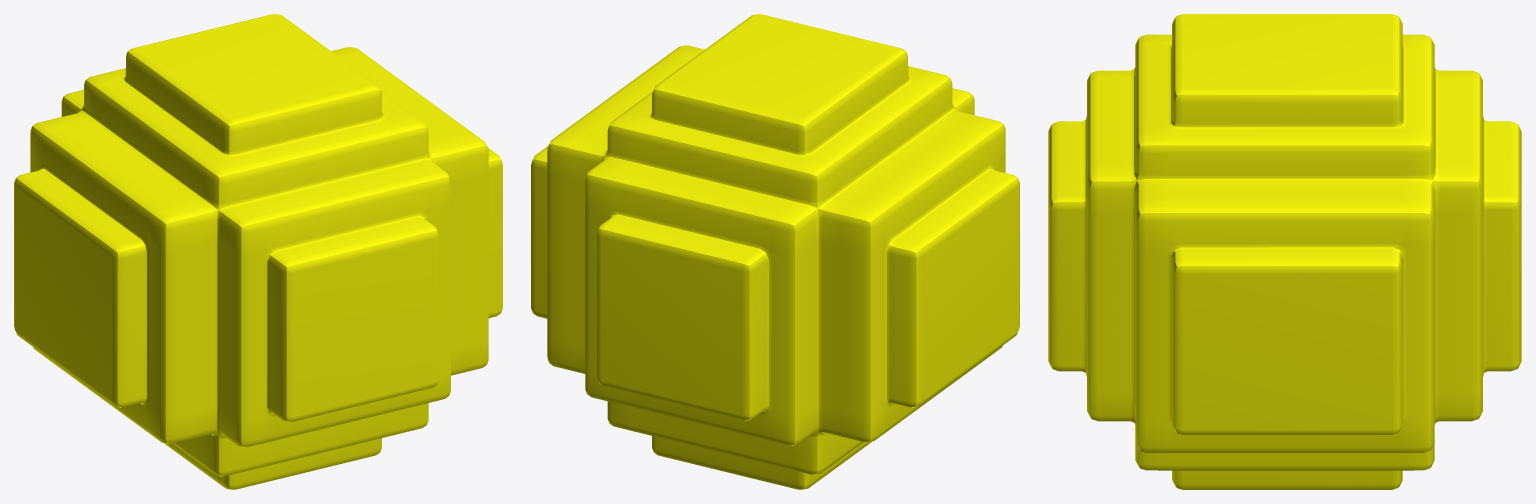
Rendered from dot.obj.
3 views of the same model, side by side, from view 1: azimuth 30°, elevation 25°; view 2: azimuth 150°, elevation 25°; view 3: azimuth 270°, elevation 25° (orthographic). The views are drawn at different scales.
Parts seen in each view (by area): view 1: dot; view 2: dot; view 3: dot.
Part boxes in pixels (bbox=[...]): dot: bbox=[14, 14, 502, 489]; dot: bbox=[531, 14, 1019, 489]; dot: bbox=[1048, 14, 1521, 489].
Size of the model in its own units: 2.16 by 1.96 by 2.09.
Materials: 1 (1 with a texture image).
